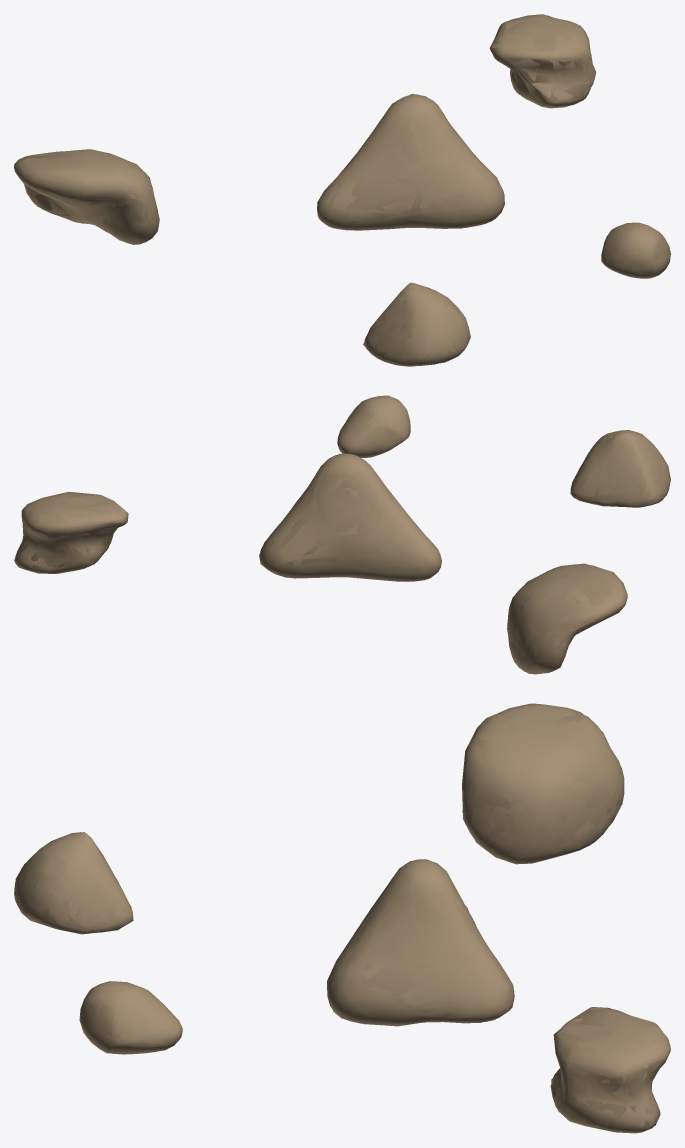
File: rock_formation_1.glb
The picture shows the model from 3 angles, top to bottom: view 1: azimuth 30°, elevation 25°; view 2: azimuth 150°, elevation 25°; view 3: azimuth 270°, elevation 25°; orthographic projection. The views are drawn at different scales.
Visible parts, largest first — view 1: Rock_0, Rock_0_Far, Rock_2, Rock_1, Rock_4, Rock_1_Far, Rock_2_Far, Rock_3, Rock_4_Far, Rock_3_Far; view 2: Rock_0, Rock_2, Rock_0_Far, Rock_1, Rock_4, Rock_1_Far, Rock_2_Far, Rock_3, Rock_4_Far, Rock_3_Far; view 3: Rock_0, Rock_2, Rock_1, Rock_2_Far, Rock_0_Far, Rock_4, Rock_1_Far, Rock_3, Rock_4_Far, Rock_3_Far.
Part boxes in pixels (left/top/right/bottom): Rock_0: left=317, top=94, right=504, bottom=230; Rock_0_Far: left=317, top=93, right=504, bottom=229; Rock_2: left=14, top=149, right=158, bottom=244; Rock_1: left=490, top=15, right=596, bottom=107; Rock_4: left=364, top=283, right=470, bottom=366; Rock_1_Far: left=489, top=14, right=595, bottom=108; Rock_2_Far: left=14, top=149, right=159, bottom=244; Rock_3: left=601, top=222, right=670, bottom=278; Rock_4_Far: left=363, top=282, right=470, bottom=366; Rock_3_Far: left=601, top=222, right=670, bottom=278; Rock_0: left=259, top=453, right=441, bottom=581; Rock_2: left=507, top=564, right=627, bottom=674; Rock_0_Far: left=259, top=453, right=441, bottom=581; Rock_1: left=15, top=492, right=127, bottom=573; Rock_4: left=570, top=430, right=670, bottom=507; Rock_1_Far: left=14, top=491, right=128, bottom=573; Rock_2_Far: left=507, top=563, right=627, bottom=673; Rock_3: left=337, top=395, right=410, bottom=457; Rock_4_Far: left=572, top=430, right=670, bottom=507; Rock_3_Far: left=337, top=395, right=410, bottom=457; Rock_0: left=327, top=859, right=514, bottom=1025; Rock_2: left=462, top=703, right=624, bottom=864; Rock_1: left=550, top=1007, right=670, bottom=1132; Rock_2_Far: left=462, top=703, right=624, bottom=863; Rock_0_Far: left=327, top=859, right=514, bottom=1026; Rock_4: left=14, top=832, right=132, bottom=933; Rock_1_Far: left=551, top=1007, right=670, bottom=1133; Rock_3: left=80, top=981, right=182, bottom=1054; Rock_4_Far: left=14, top=832, right=133, bottom=934; Rock_3_Far: left=79, top=981, right=182, bottom=1054.
Bounding box in the file's own units: 9.53 × 1.81 × 7.71.
